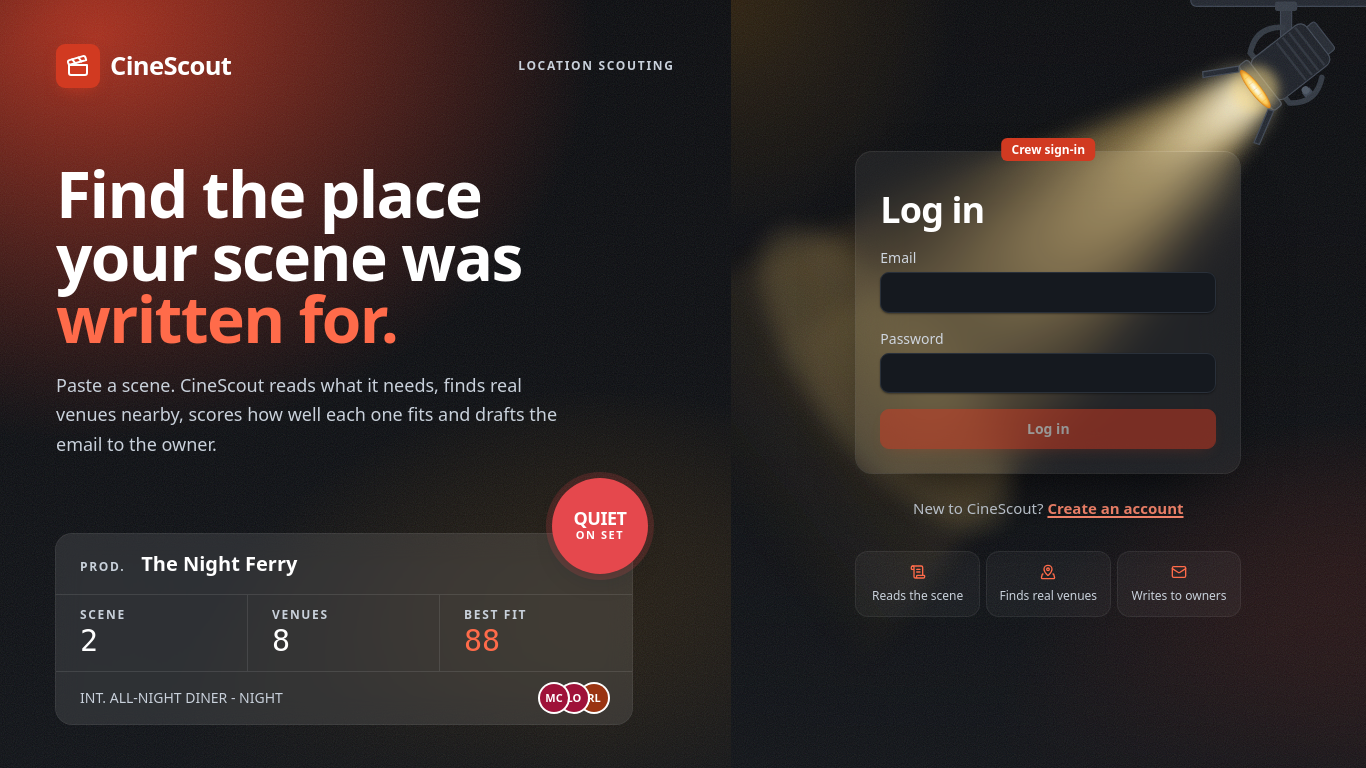
Scenario: the schedule of a project › schedules an unscheduled scene in place, and it moves to its day
In the field labelled "Email": (1048, 293) [880, 272, 1216, 313], type "ada@example.com"
In the password field labelled "Password": (1048, 373) [880, 353, 1216, 393], type "a-long-password"
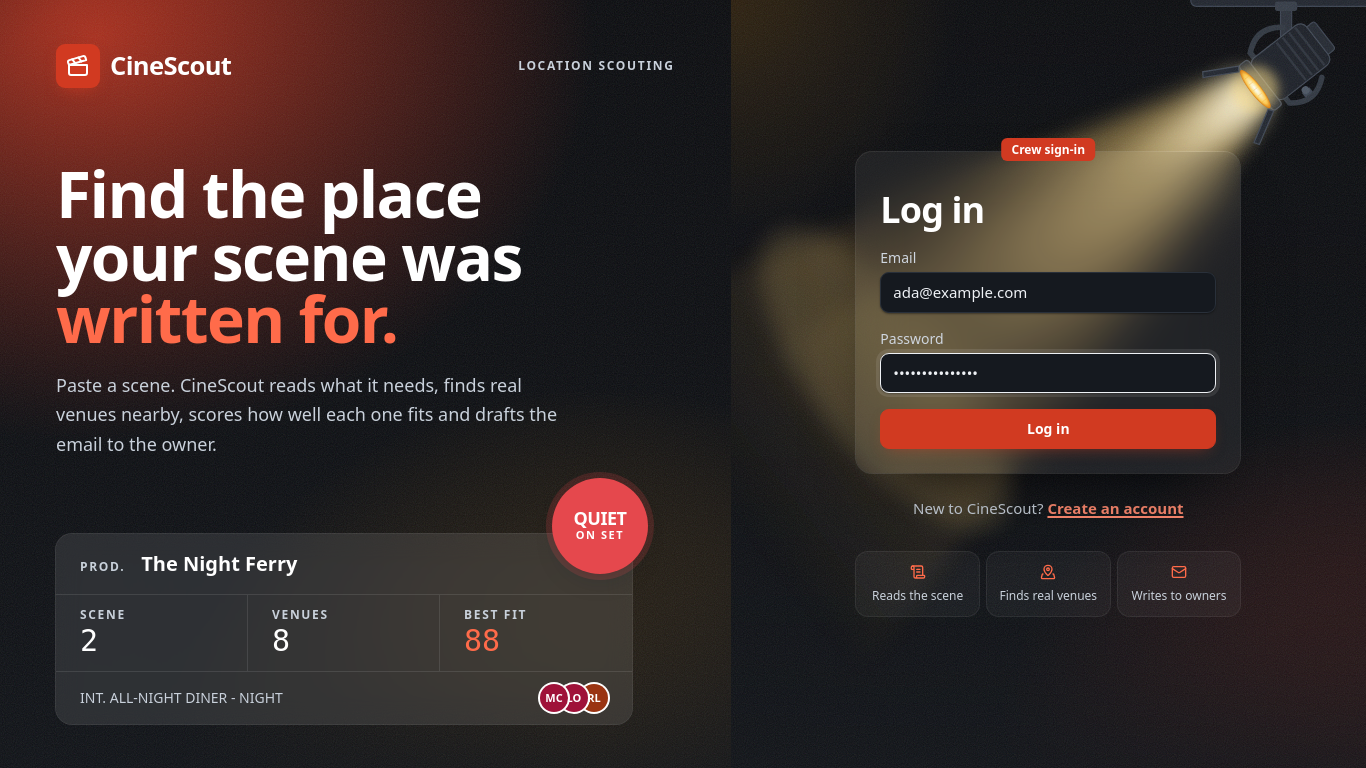
Click the button "Log in": (1048, 429) [880, 409, 1216, 449]
(page scrolled)
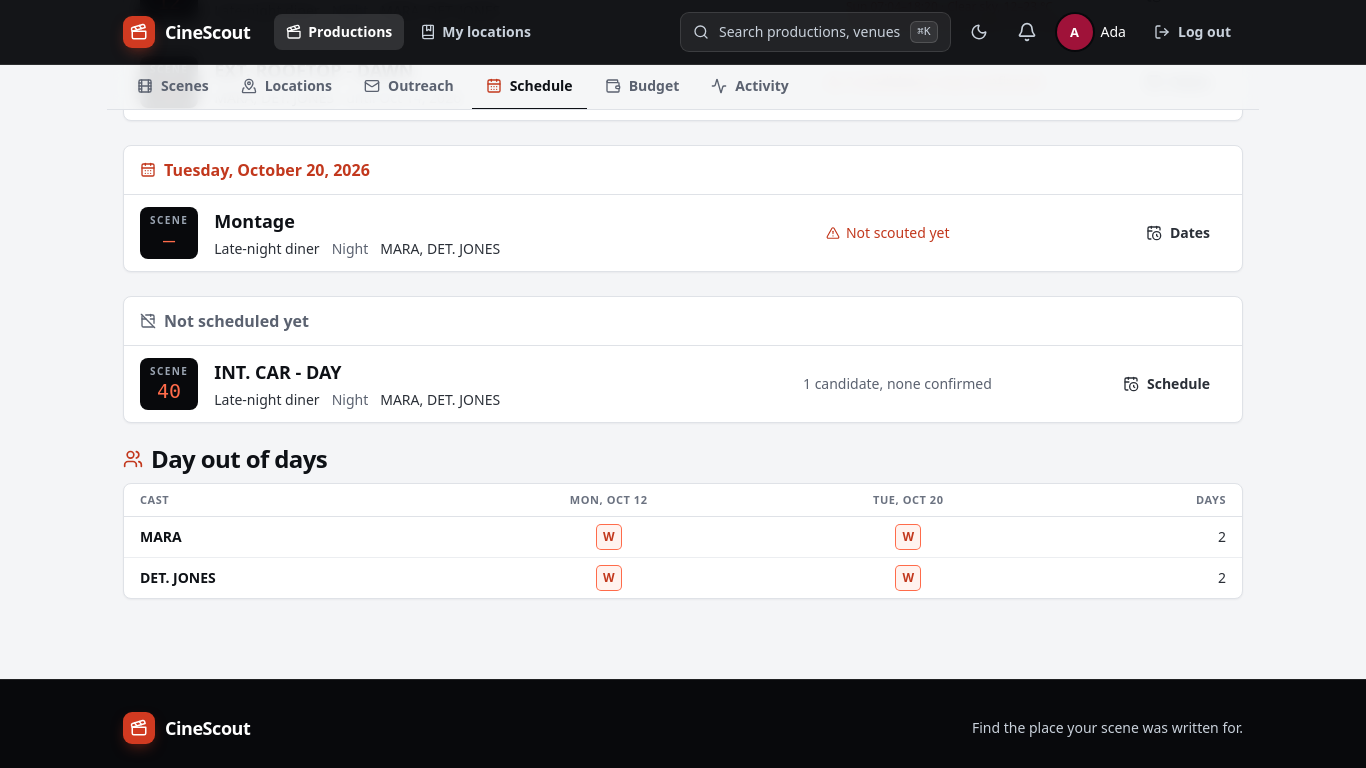
Click the button named "Schedule INT. CAR - DAY": (1166, 384) [1107, 364, 1226, 404]
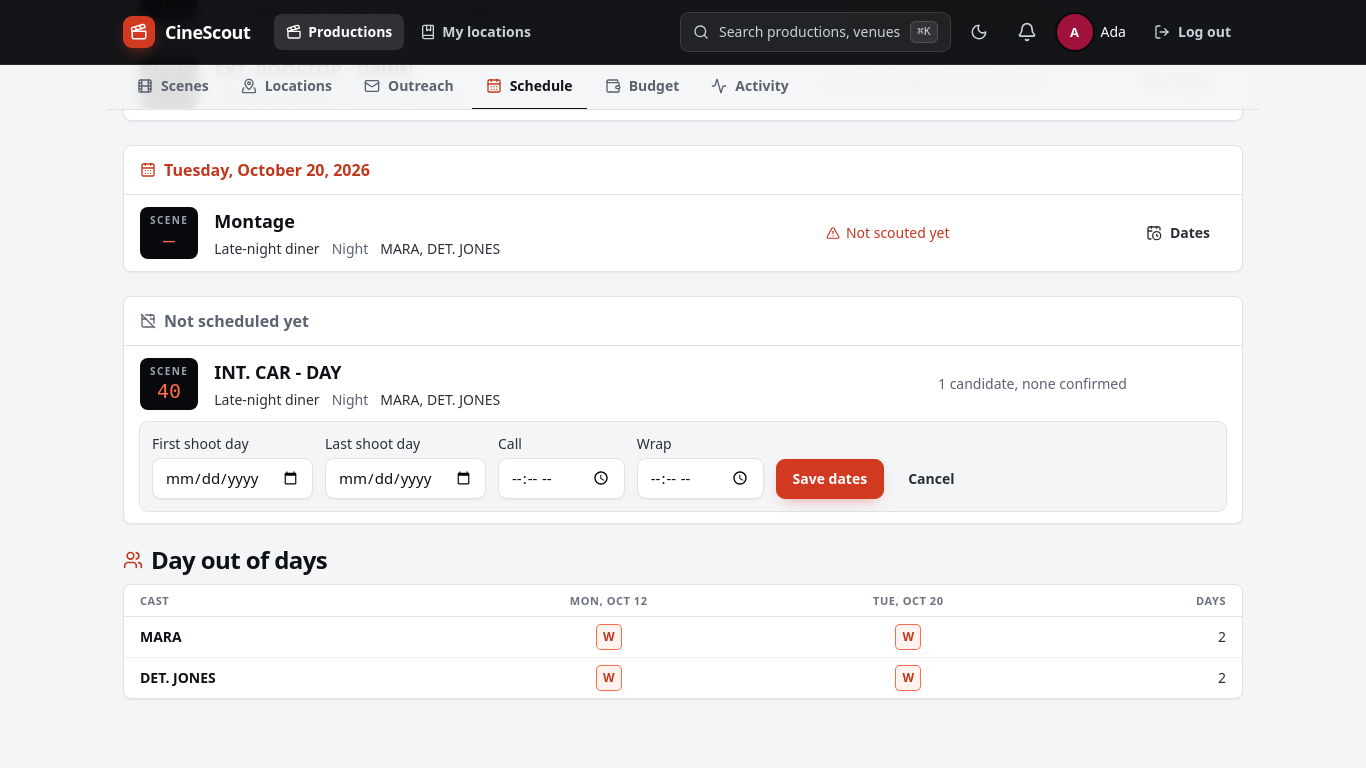
In the date field labelled "Last shoot day": (406, 478) [325, 458, 486, 498], type "2026-10-18"
In the date field labelled "First shoot day": (232, 478) [152, 458, 313, 498], type "2026-10-20"
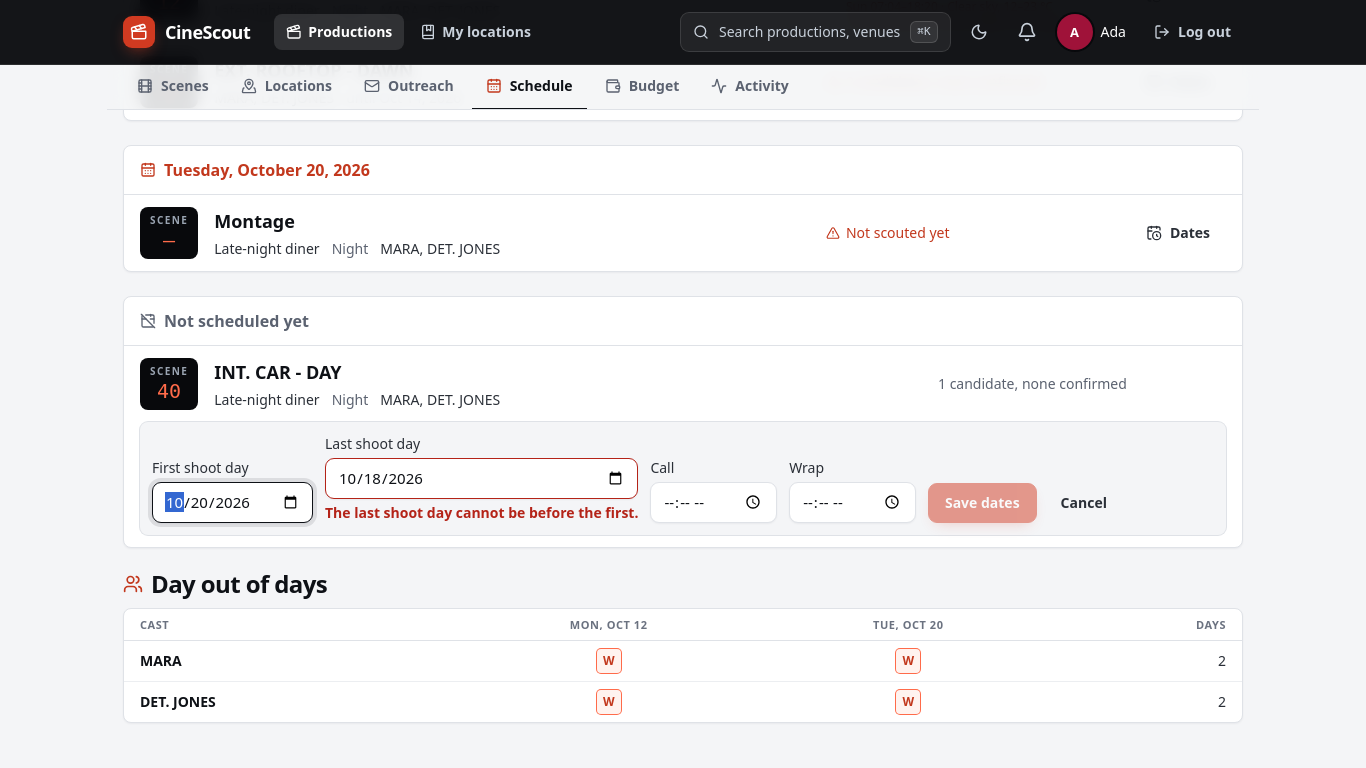
Expected: the text "The last shoot day cannot be before the first." is shown, [325, 502, 638, 522]
Expected: the button "Save dates" is disabled, [928, 482, 1037, 522]
Clear the date field labelled "Last shoot day": (482, 478) [325, 458, 638, 498]
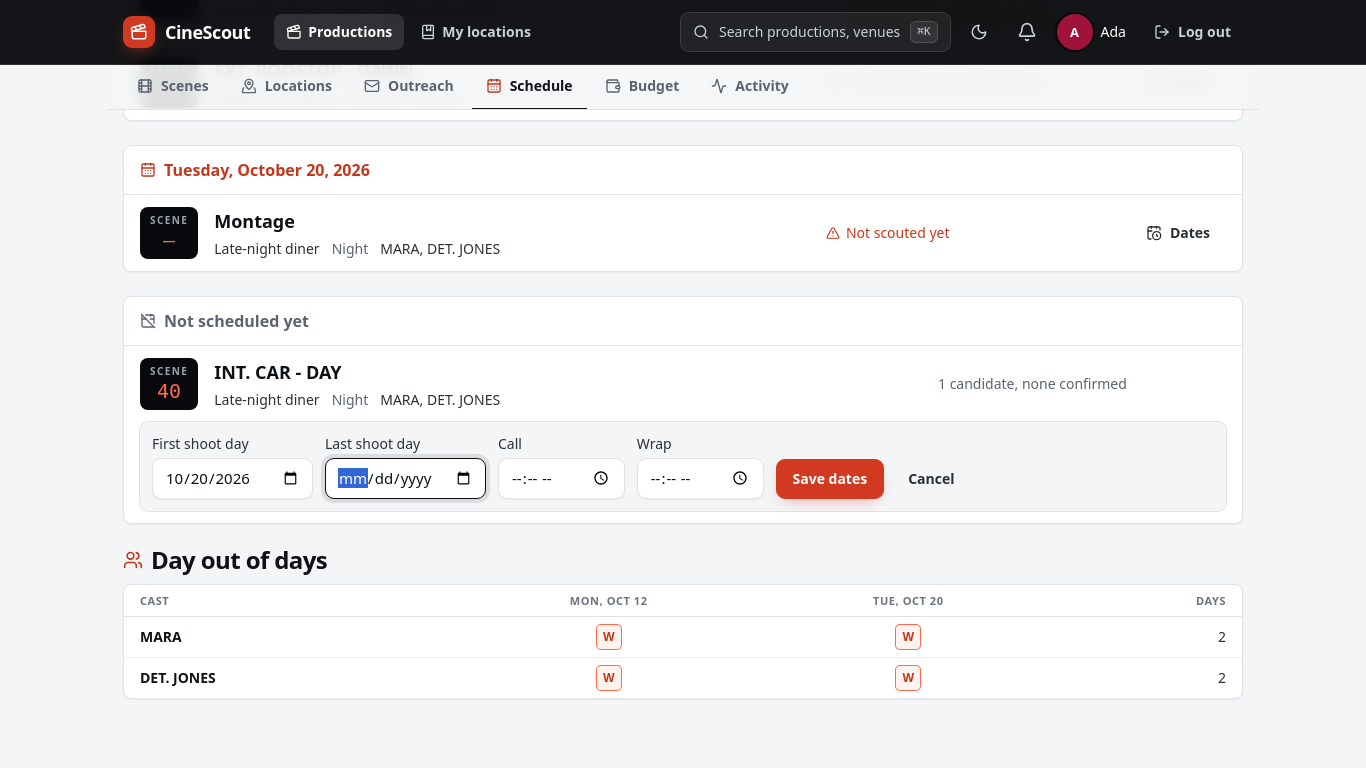
Click the button "Save dates": (830, 478) [776, 458, 884, 498]
(page scrolled)
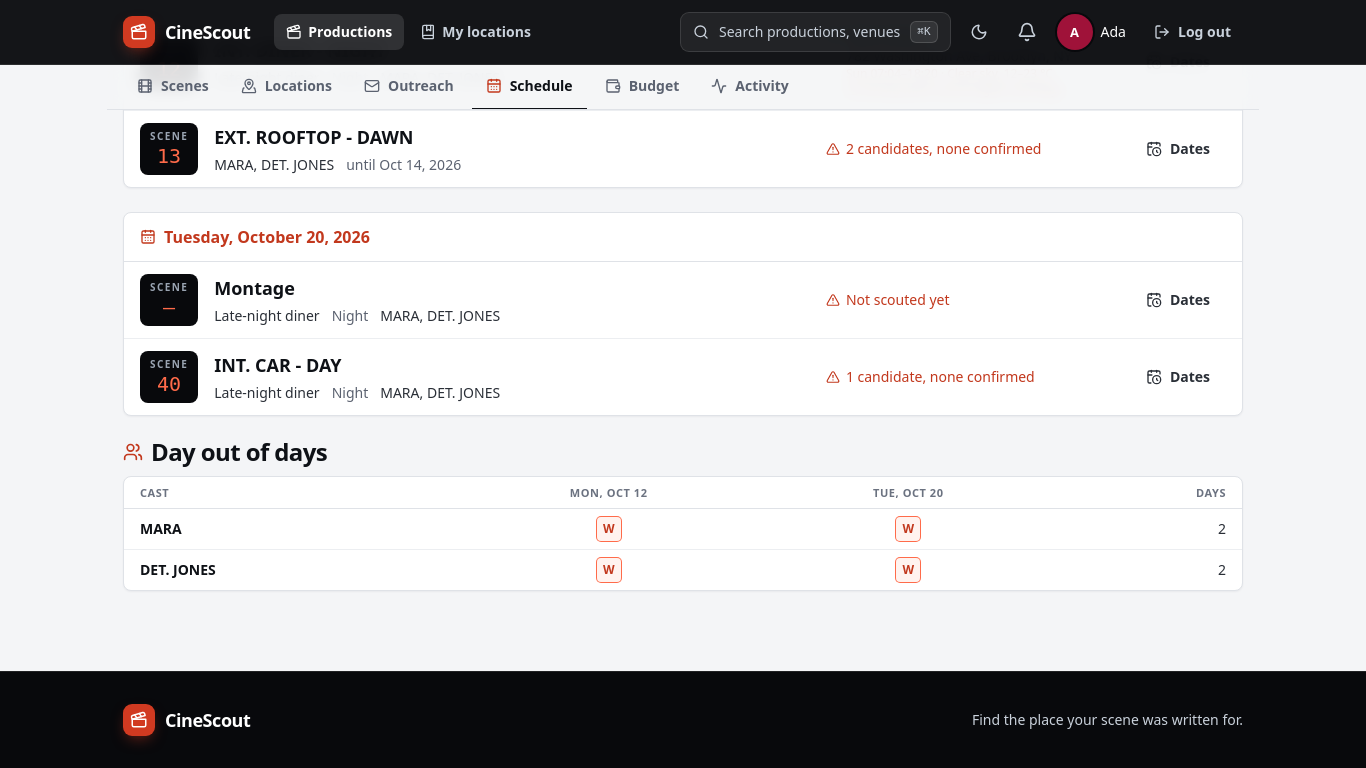
Expected: the link "INT. CAR - DAY" is shown, [214, 352, 342, 376]
Expected: the heading "Not scheduled yet" is gone
